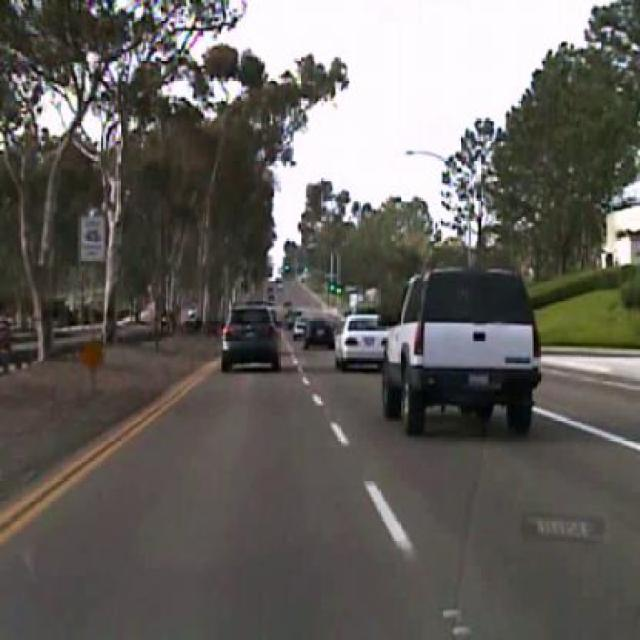speedLimit45: (78, 214, 105, 261)
